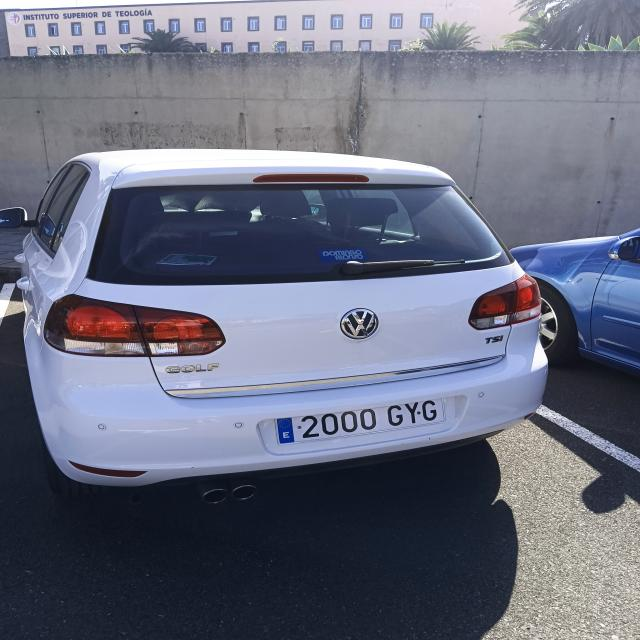football: (276, 399, 446, 445)
